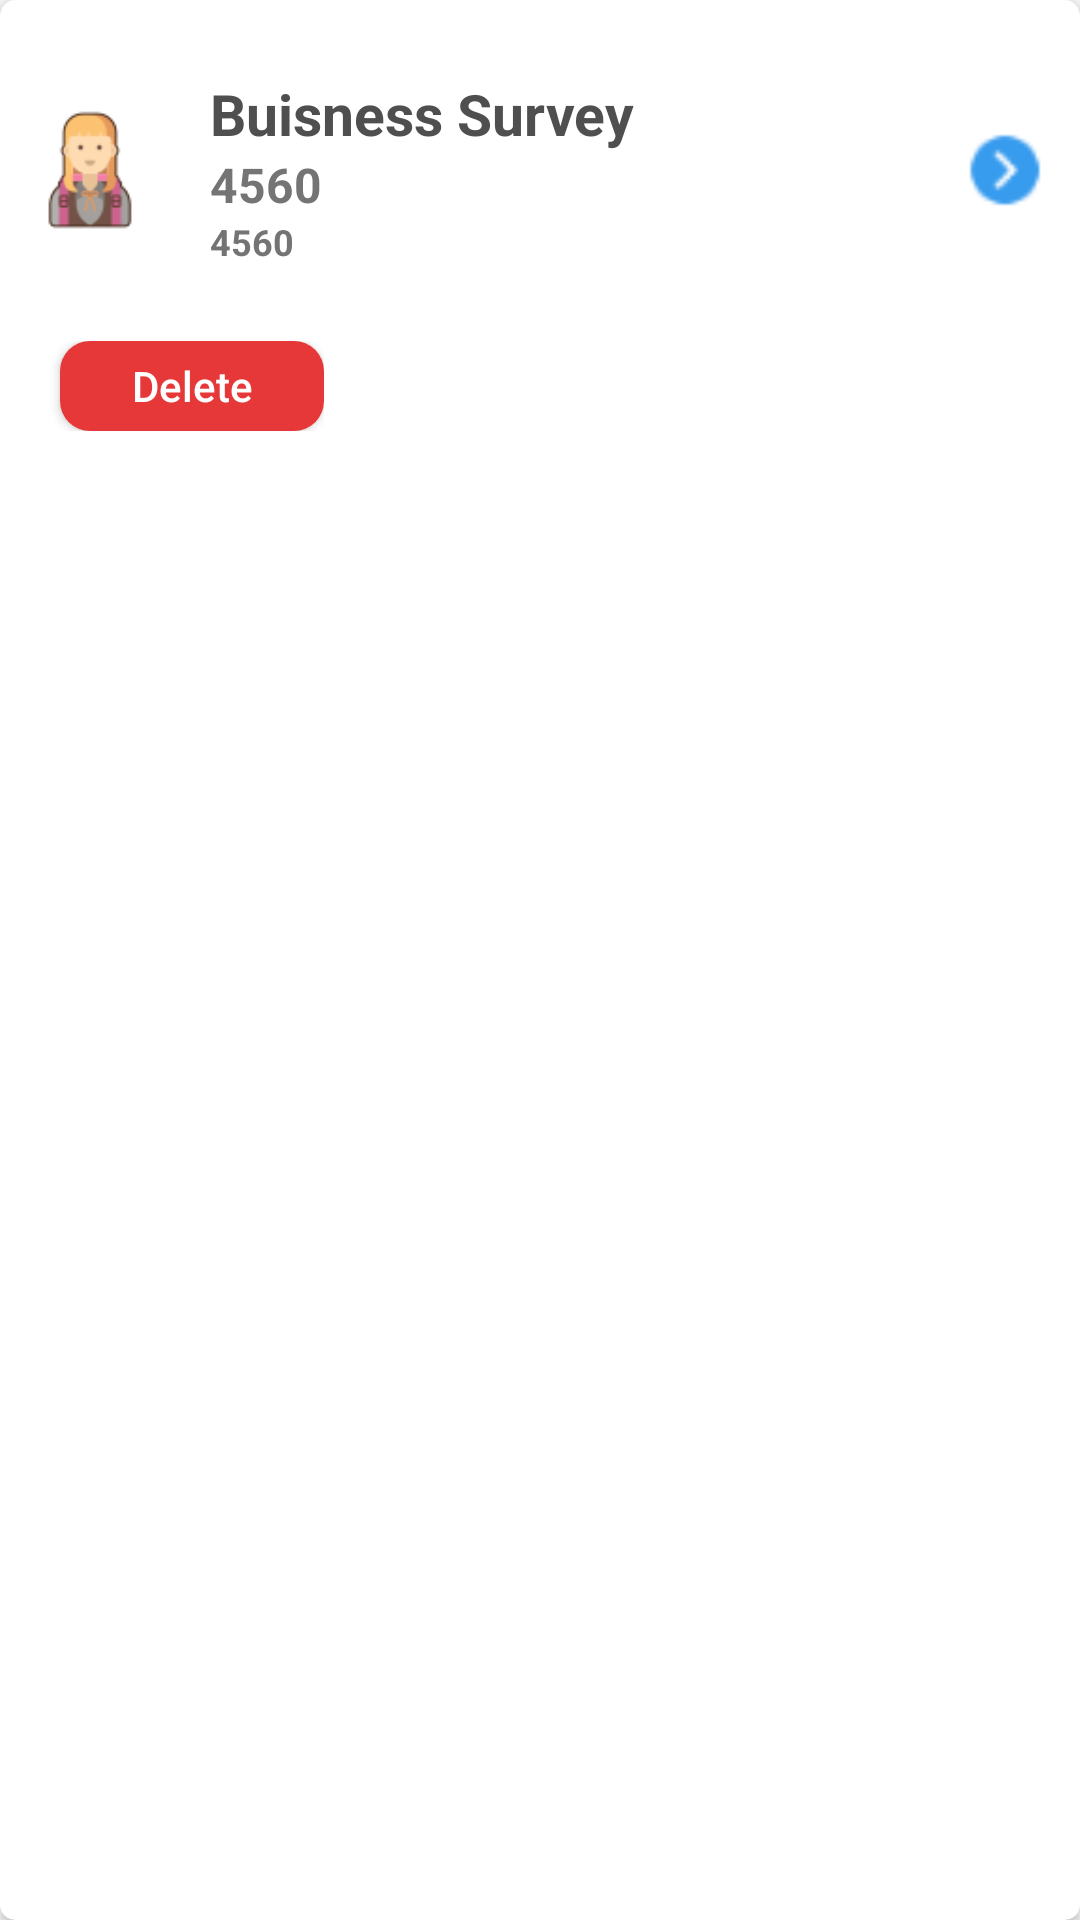

Locate icon controls on the screen. Image size 1080 x 1920, boxes as (x1, y1, x2, y2).
next: (969, 134, 1041, 206)
student: (48, 111, 132, 229)
